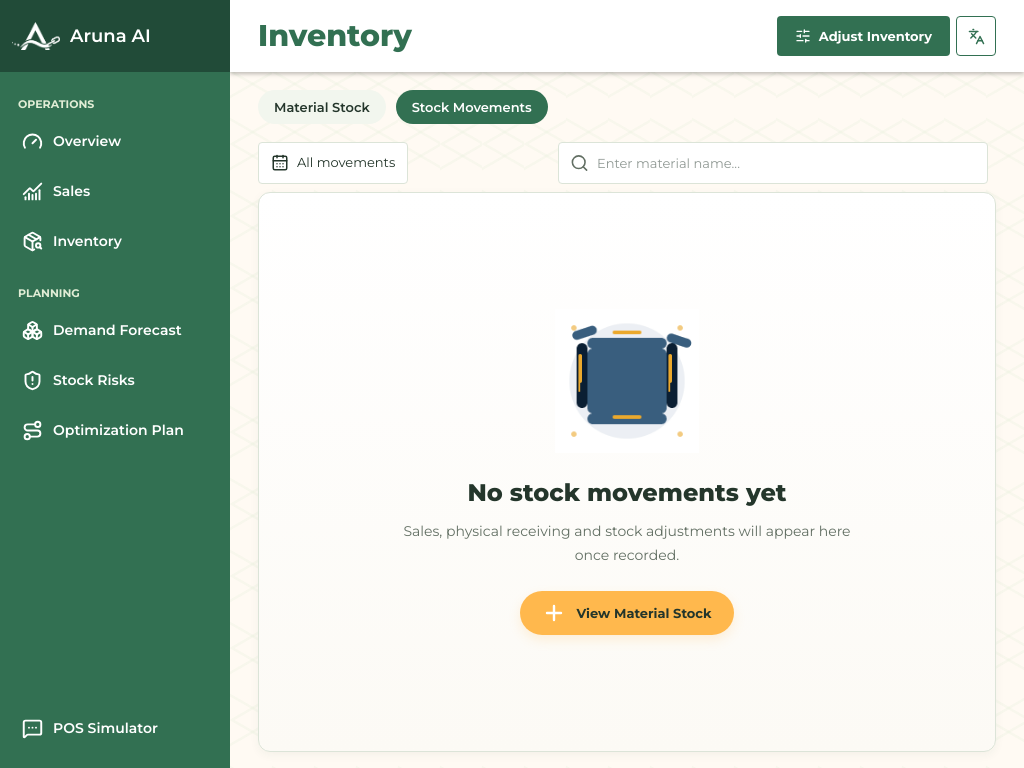
Test: Inventory page states › switches empty inventory tabs and translates the empty state
The width and height of the screenshot is (1024, 768).
Expected: the heading "No stock movements yet" is shown, [468, 478, 787, 507]
Click the button "View Material Stock" at x=627, y=613, box [520, 591, 734, 635]
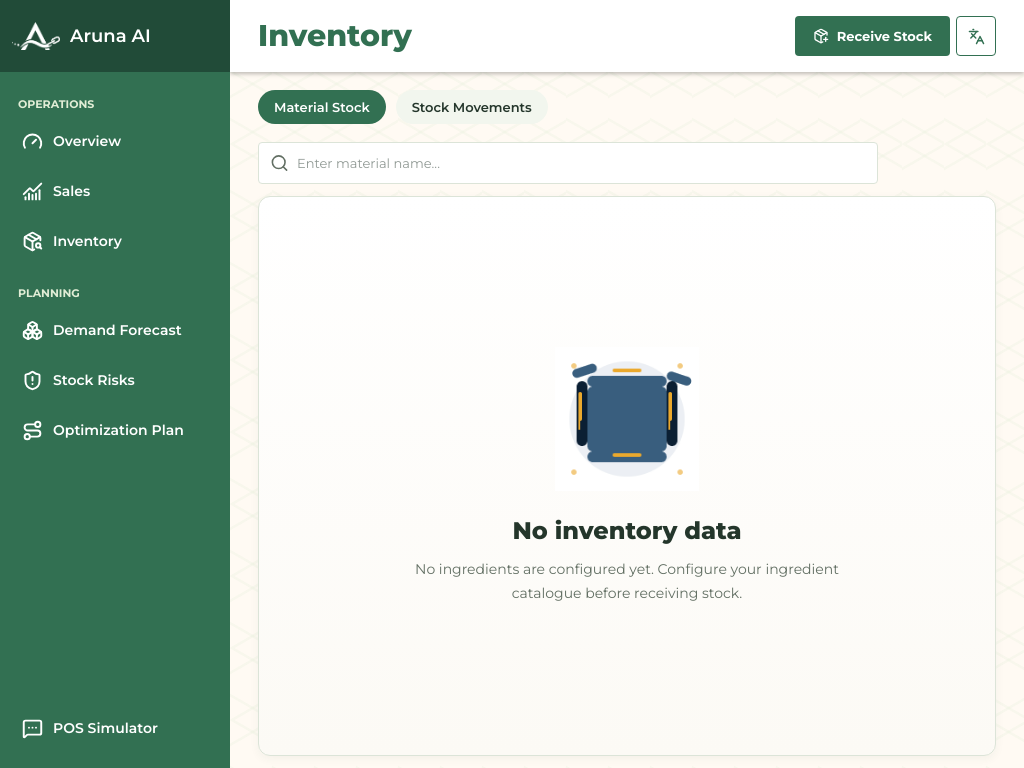
Now the heading "No inventory data" is shown, box [512, 516, 742, 545]
Click the button named "Switch to Bahasa Indonesia" at x=976, y=36, box [956, 16, 996, 56]
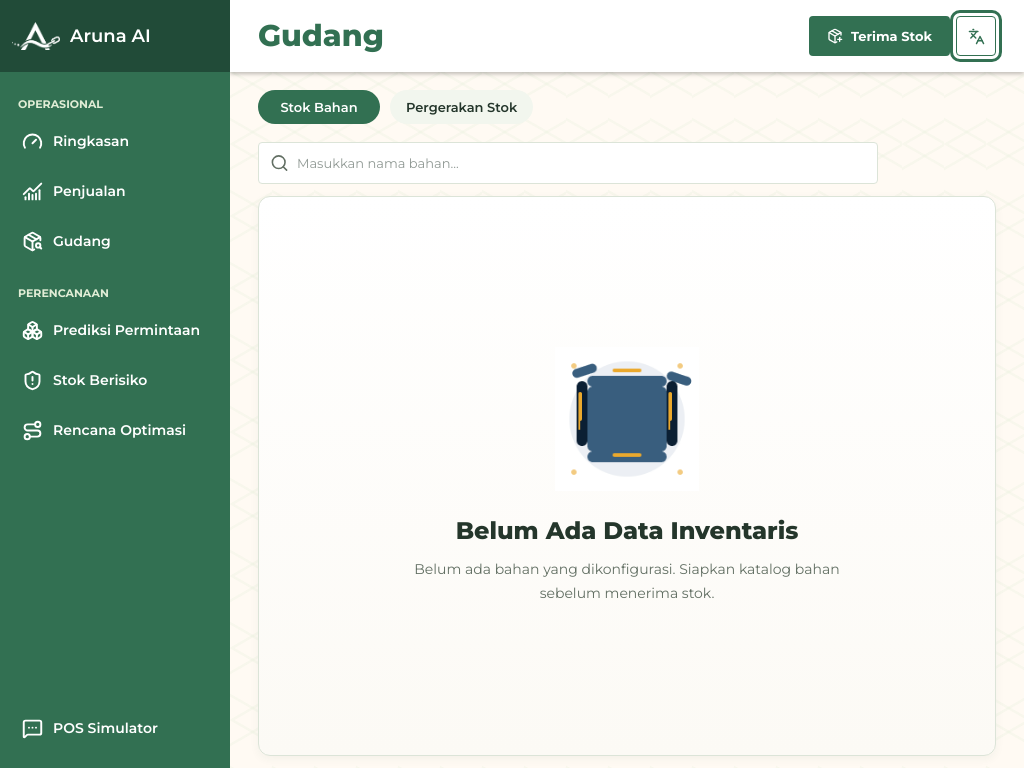
Now the heading "Belum Ada Data Inventaris" is shown, box [456, 516, 798, 545]
